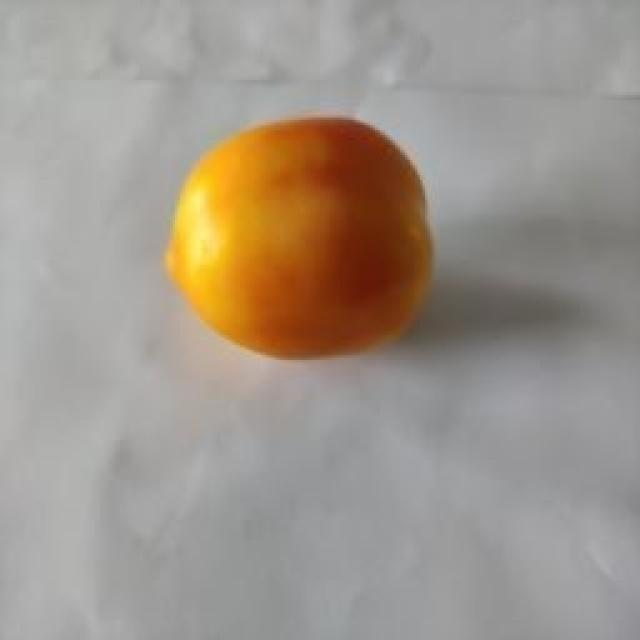unripe: (190, 65, 458, 387)
